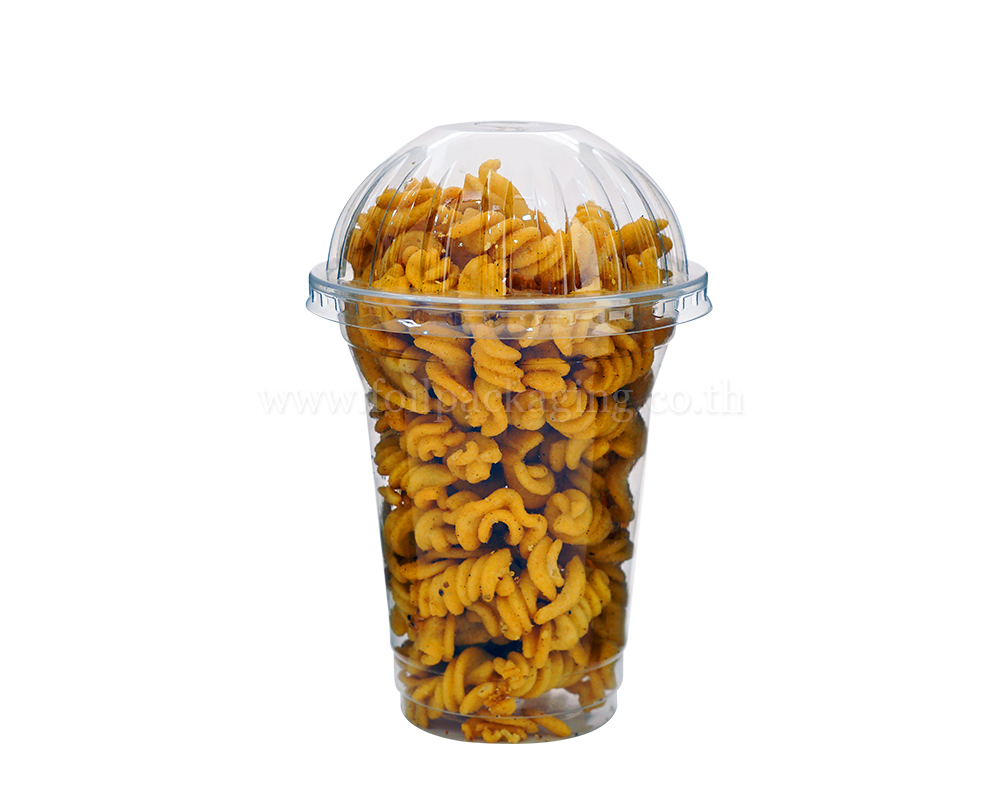plastic_glass: (294, 107, 728, 761)
